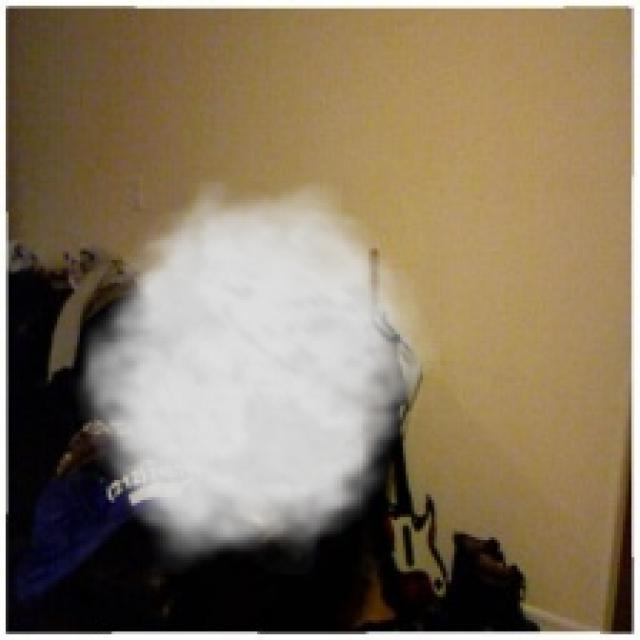smoke: (68, 177, 443, 574)
